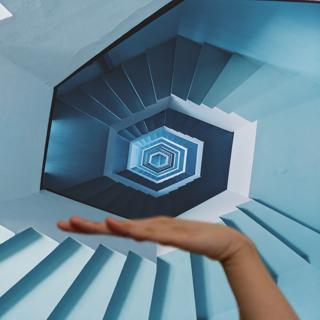WAIT: (51, 206, 244, 265)
